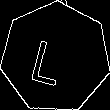L_N: (35, 29, 76, 86)
